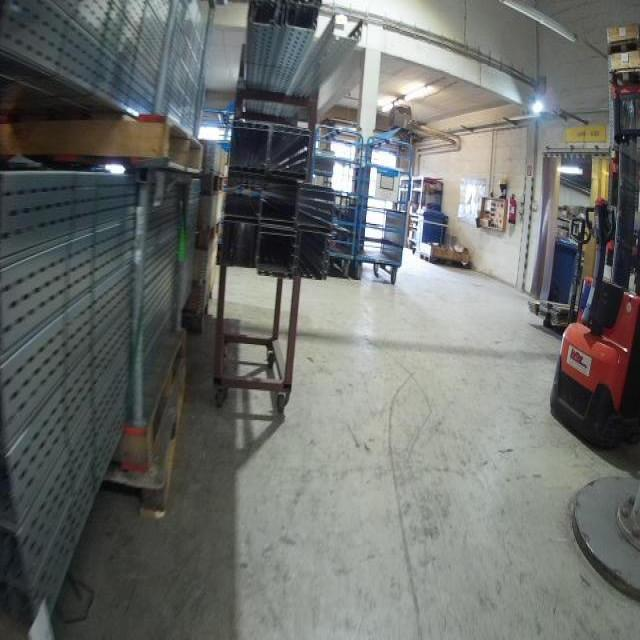pallet: (98, 389, 185, 515), (182, 288, 212, 335), (420, 252, 471, 272), (611, 67, 638, 78), (608, 38, 638, 47)
pallet_truck: (550, 86, 635, 455), (542, 200, 594, 325)
